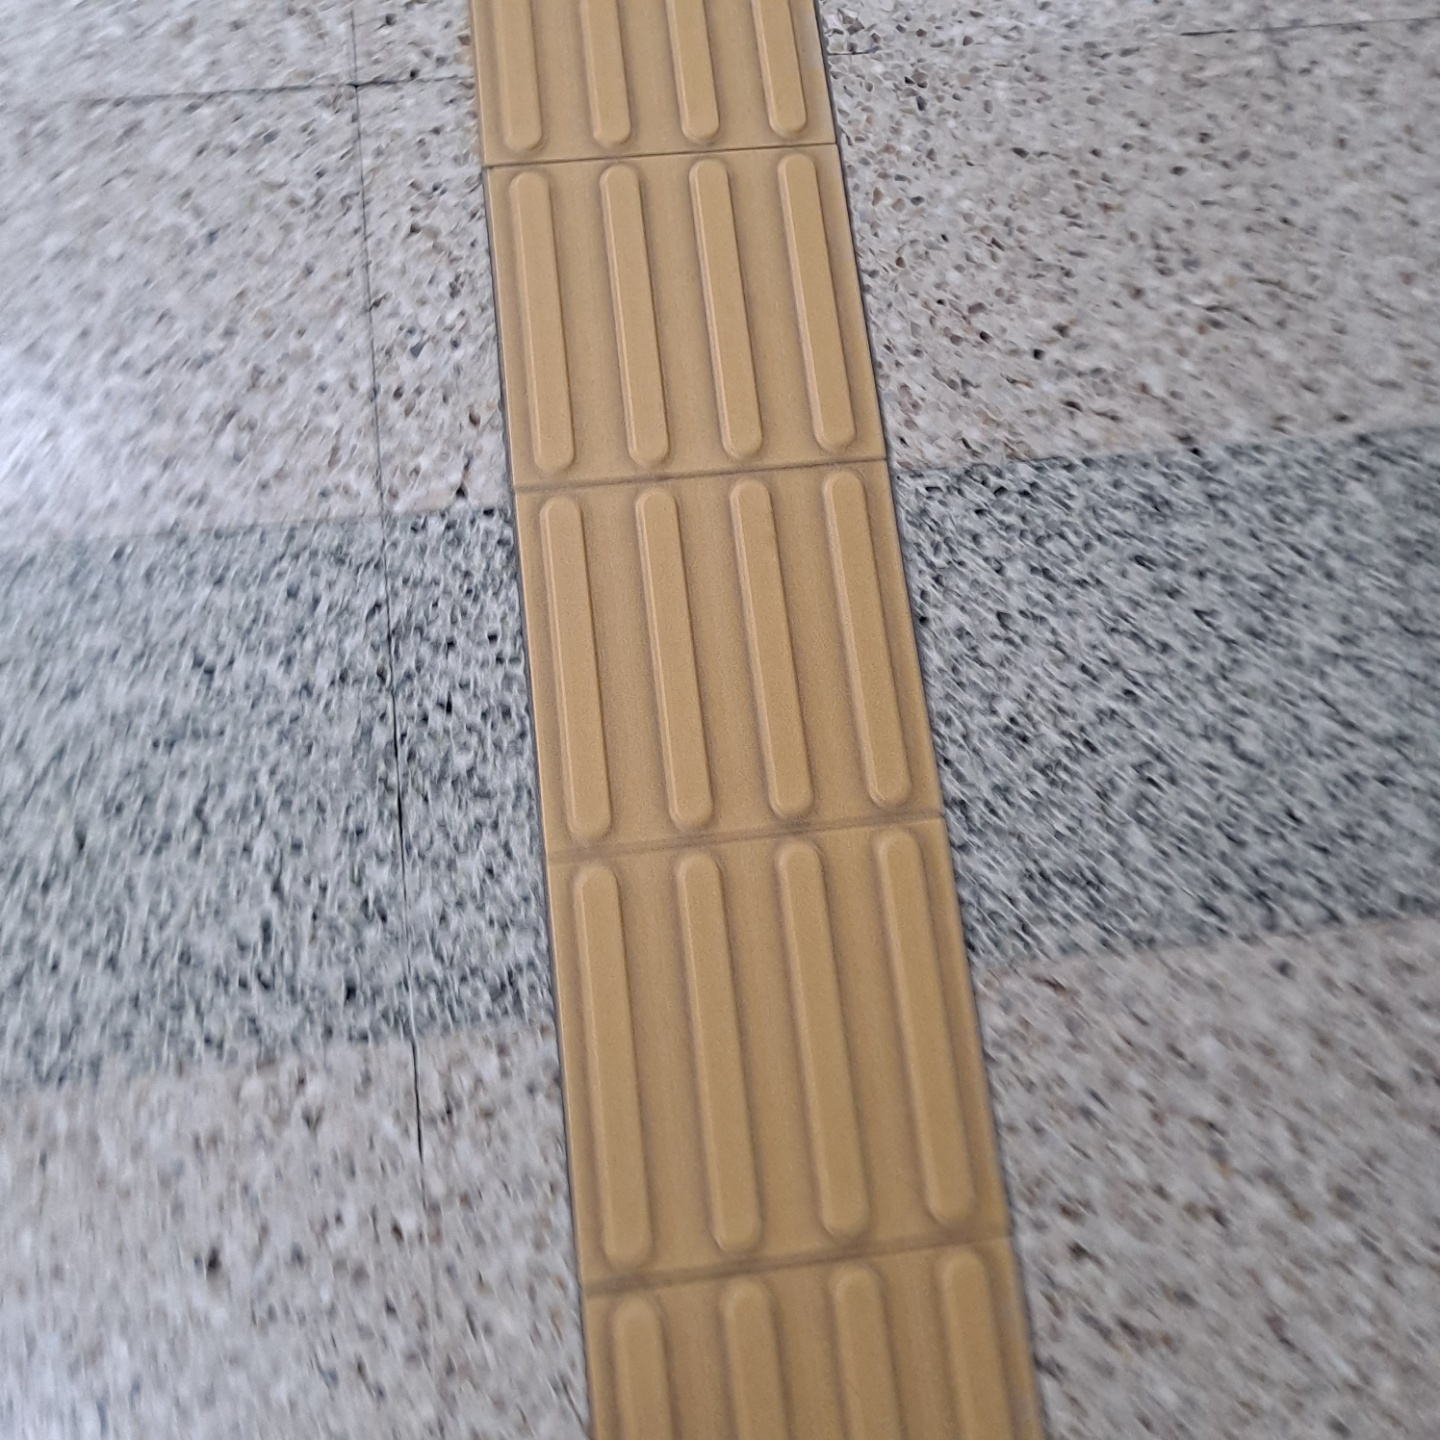guideBlock: (520, 843, 1011, 1263), (516, 477, 942, 833), (501, 189, 880, 456), (609, 1287, 1101, 1440), (492, 11, 827, 131)
